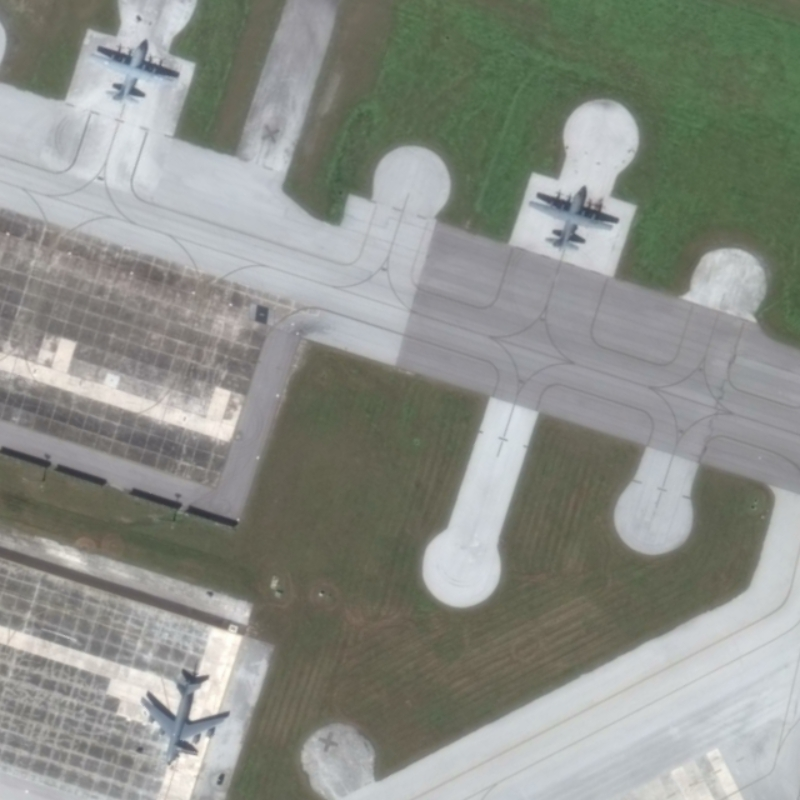A14: (137, 672, 234, 769)
A2: (87, 39, 182, 107), (526, 184, 618, 254)
